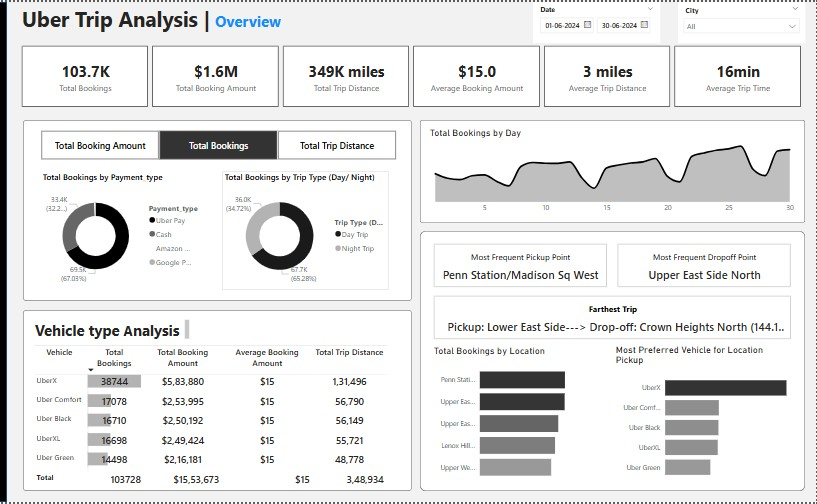

The dashboard page shown, as its layout file describes it:
{"tool":"powerbi","page":{"name":"Page 1","canvas":[1600,900],"ordinal":0},"visuals":[{"type":"shape","box":[0,0,142.2,900],"z":0},{"type":"shape","box":[171,212.4,700.2,325.8],"z":1000},{"type":"textbox","box":[163.8,0,516.6,104.4],"z":2000},{"type":"cardVisual","fields":{"Data":["Trip Details.Total Bookings","Trip Details.Total Booking Amount","Trip Details.Total Trip Distance","Trip Details.Average Booking Amount","Trip Details.Average Trip Distance","Trip Details.Average Trip Time"]},"box":[163.8,73.8,1414.8,120.6],"z":3000},{"type":"slicer","fields":{"Values":["Dynamic Measure.Dynamic Measure"]},"box":[178.2,225,687.6,64.8],"z":4000},{"type":"donutChart","fields":{"Y":["Trip Details.Total Booking Amount"],"Category":["Trip Details.Payment_type"]},"box":[201.6,304.2,300.6,214.2],"z":5000},{"type":"shape","box":[171,554.4,700.2,325.8],"z":6000},{"type":"donutChart","fields":{"Y":["Trip Details.Total Booking Amount"],"Category":["Trip Details.Trip Type (Day/ Night)"]},"box":[529.2,304.2,300.6,214.2],"z":7000},{"type":"pivotTable","fields":{"Values":["Trip Details.Total Bookings","Trip Details.Total Booking Amount","Trip Details.Average Booking Amount","Trip Details.Total Trip Distance Measure"],"Rows":["Trip Details.Vehicle"]},"box":[185,611.7,665,263],"z":8000},{"type":"textbox","box":[178.3,566.7,296.7,45],"z":9000},{"type":"shape","box":[885.6,212.4,693,185.4],"z":10000},{"type":"areaChart","fields":{"Category":["Calender Table.Date.Variation.Date Hierarchy.Day"],"Y":["Trip Details.Total Bookings"]},"box":[898.2,225,667.8,163.8],"z":11000},{"type":"shape","box":[885.6,412.2,693,468],"z":12000},{"type":"cardVisual","fields":{"Data":["Trip Details.Most Frequent Pickup Point","Trip Details.Most Frequent Dropoff Point"]},"box":[905,430.4,653,88.2],"z":13000},{"type":"cardVisual","fields":{"Data":["Trip Details.Farthest Trip"]},"box":[905.4,523.8,653.4,88.2],"z":14000},{"type":"barChart","fields":{"Category":["Location Table.Location"],"Y":["Trip Details.Total Bookings"]},"box":[905.4,617.4,298.8,257.4],"z":14001},{"type":"barChart","title":"Most Preferred Vehicle for Location Pickup","fields":{"Y":["CountNonNull(Trip Details.PULocationID)"],"Category":["Trip Details.Vehicle"]},"box":[1232.5,615.2,325.5,256.2],"z":14002},{"type":"slicer","fields":{"Values":["Calender Table.Date"]},"box":[1089,0,228.6,73.8],"z":14003},{"type":"slicer","fields":{"Values":["Location Table.City"]},"box":[1350,0,228.6,73.8],"z":14004}]}

Visuals, with their boxes on the page's 1600x900 design canvas (x1, y1, x2, y2). These are canvas units, not pixel positions in the 817x504 screenshot, which may show the page scaled, cropped or inside an application window:
shape: select_region(0, 0, 142, 900)
shape: select_region(171, 212, 871, 538)
textbox: select_region(164, 0, 680, 104)
cardVisual - Trip Details.Total Bookings x Trip Details.Total Booking Amount: select_region(164, 74, 1579, 194)
slicer - Dynamic Measure.Dynamic Measure: select_region(178, 225, 866, 290)
donutChart - Trip Details.Total Booking Amount x Trip Details.Payment_type: select_region(202, 304, 502, 518)
shape: select_region(171, 554, 871, 880)
donutChart - Trip Details.Total Booking Amount x Trip Details.Trip Type (Day/ Night): select_region(529, 304, 830, 518)
pivotTable - Trip Details.Total Bookings x Trip Details.Total Booking Amount: select_region(185, 612, 850, 875)
textbox: select_region(178, 567, 475, 612)
shape: select_region(886, 212, 1579, 398)
areaChart - Calender Table.Date.Variation.Date Hierarchy.Day x Trip Details.Total Bookings: select_region(898, 225, 1566, 389)
shape: select_region(886, 412, 1579, 880)
cardVisual - Trip Details.Most Frequent Pickup Point x Trip Details.Most Frequent Dropoff Point: select_region(905, 430, 1558, 519)
cardVisual - Trip Details.Farthest Trip: select_region(905, 524, 1559, 612)
barChart - Location Table.Location x Trip Details.Total Bookings: select_region(905, 617, 1204, 875)
"Most Preferred Vehicle for Location Pickup" barChart: select_region(1232, 615, 1558, 871)
slicer - Calender Table.Date: select_region(1089, 0, 1318, 74)
slicer - Location Table.City: select_region(1350, 0, 1579, 74)
